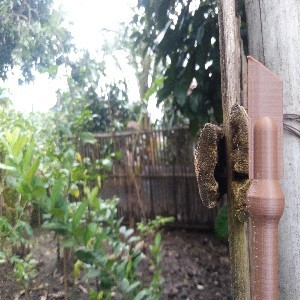cutter: (246, 53, 286, 300)
